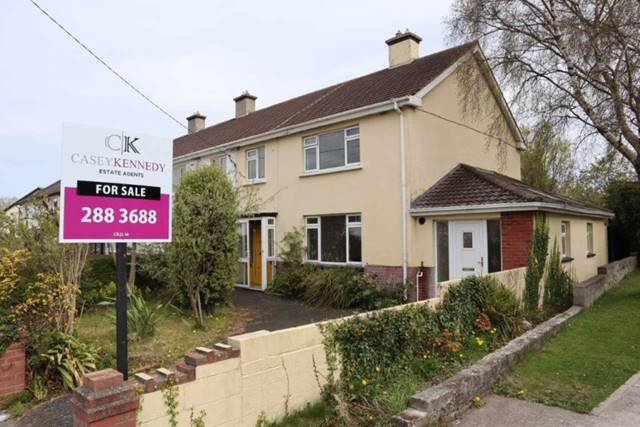property sign: (52, 108, 190, 254)
